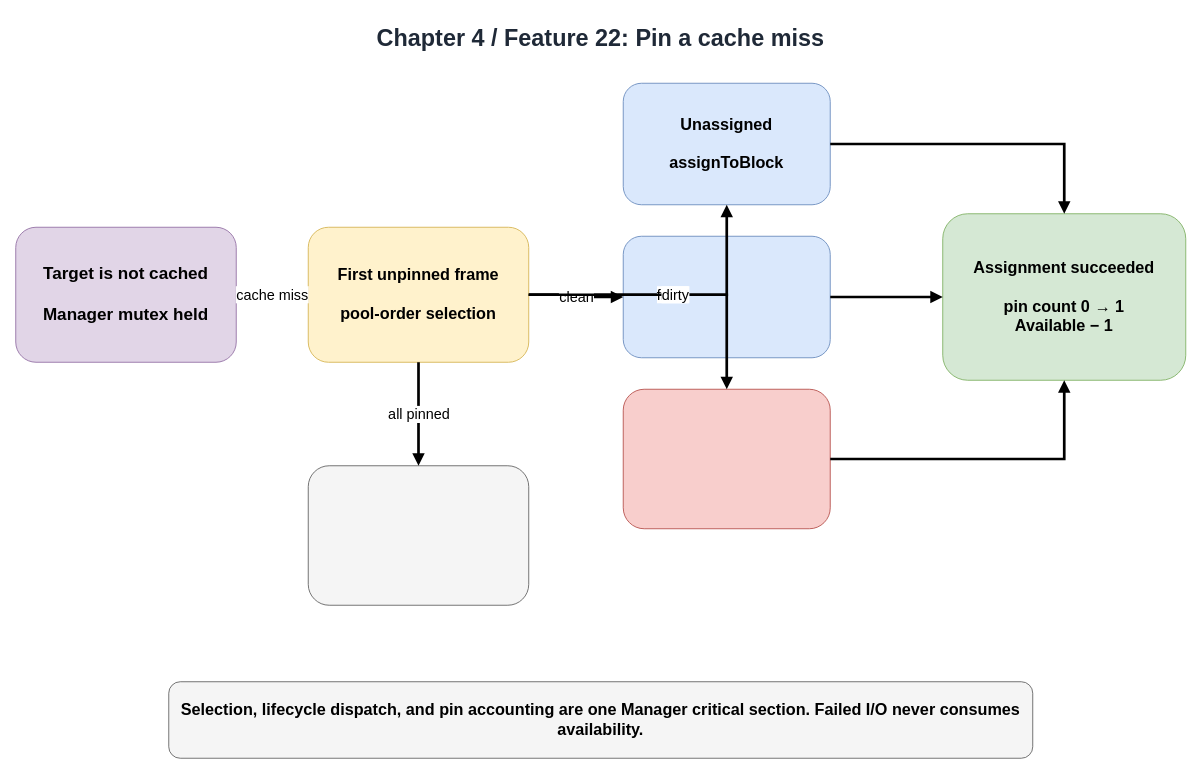
Image size: 1202x774. Some labels were removed from this diagram. Here are the shapes that lost their labels. From the top down, the box of each, then its label:
(622, 235, 830, 358): Clean assigned reassignToBlock
(622, 388, 830, 529): Dirty assigned WAL + flush replaceDirtyWithBlock
(307, 465, 529, 605): No unpinned frame return nil, false no state change
